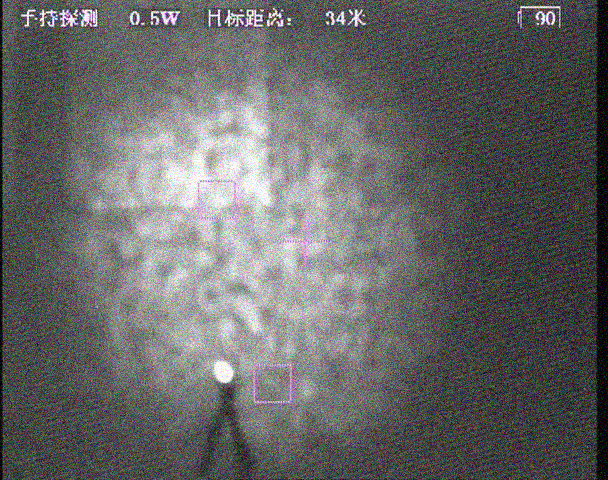my: (211, 358, 238, 384)
